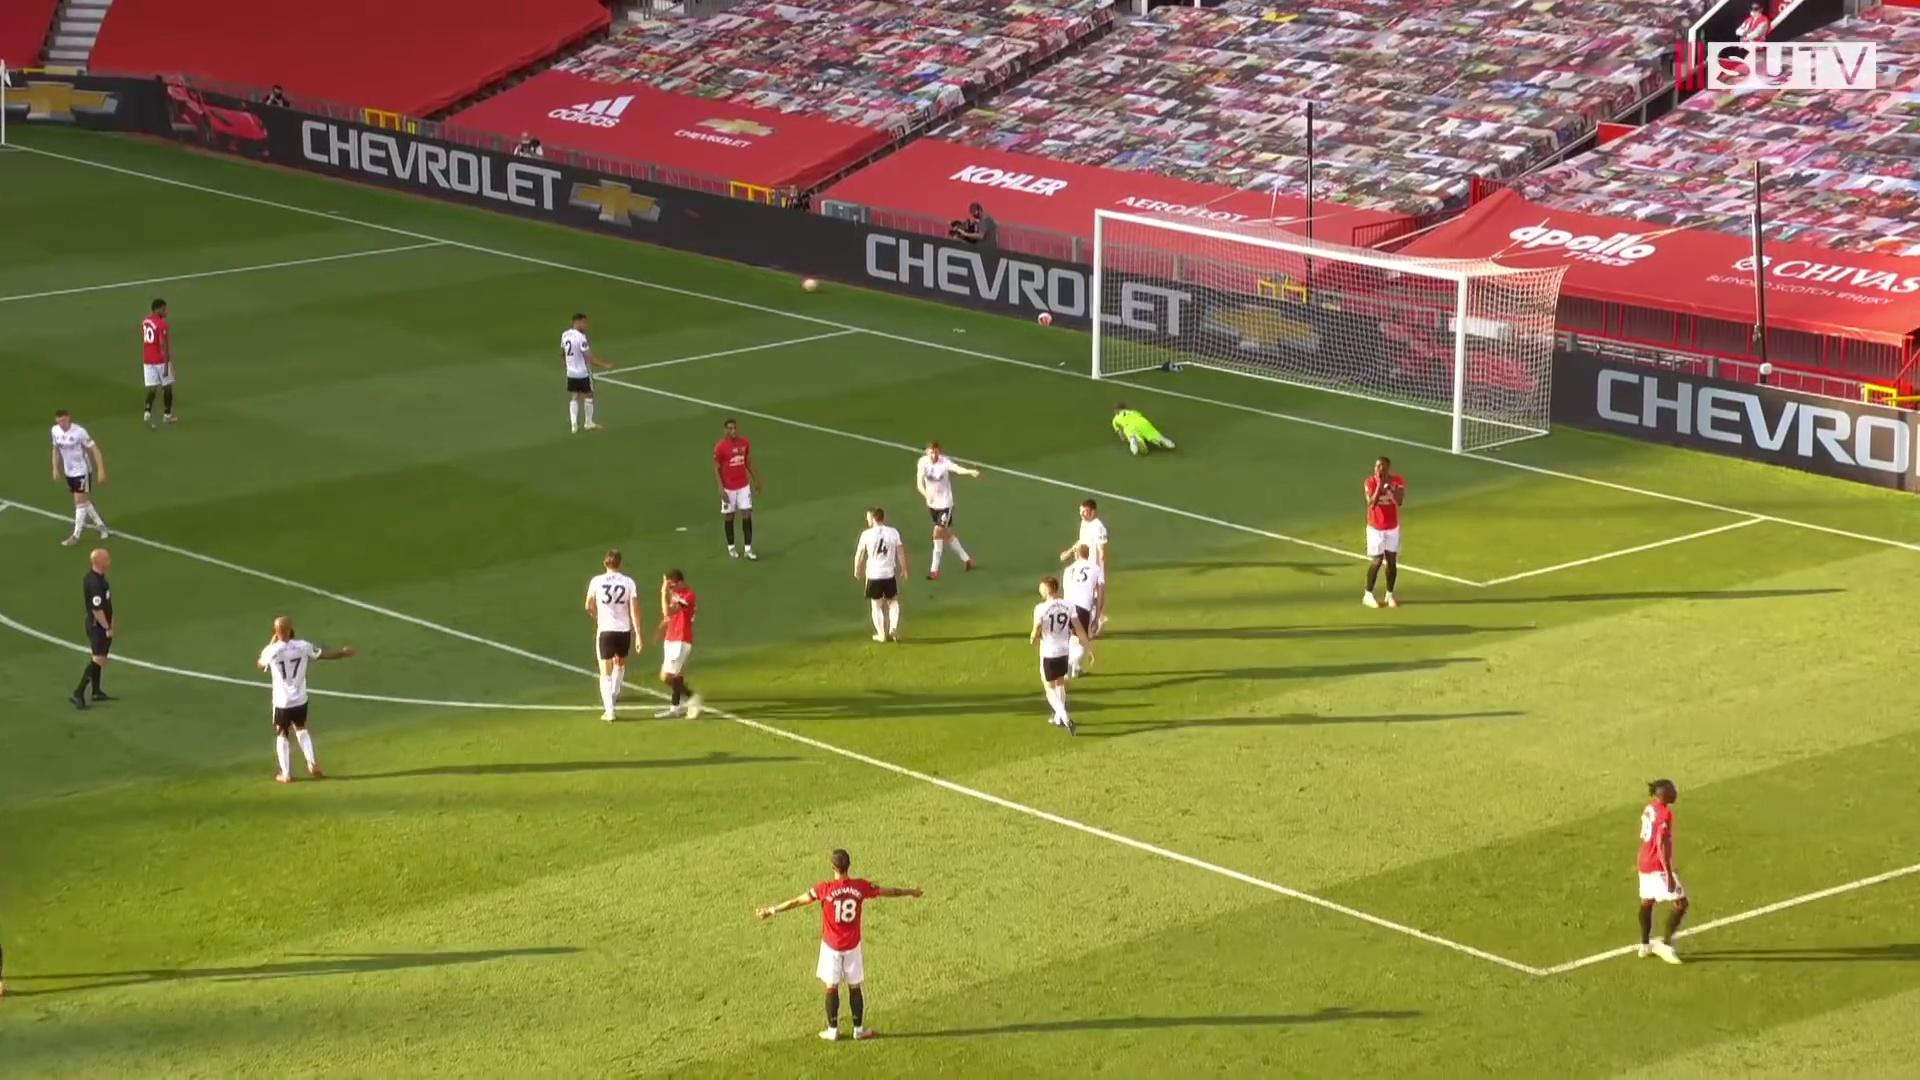ball: (796, 270, 824, 295), (1033, 310, 1055, 333)
goalkeeper: (1109, 397, 1176, 457)
player: (755, 841, 930, 1048), (252, 616, 360, 793), (1628, 771, 1700, 966), (582, 552, 648, 732), (1026, 577, 1094, 735), (914, 435, 984, 578), (650, 567, 712, 727), (45, 408, 112, 556), (1356, 450, 1415, 613), (848, 505, 910, 647), (1055, 500, 1113, 641), (715, 417, 769, 567), (556, 309, 615, 439), (135, 296, 190, 432), (1061, 538, 1106, 685)
referee: (68, 545, 125, 720)
